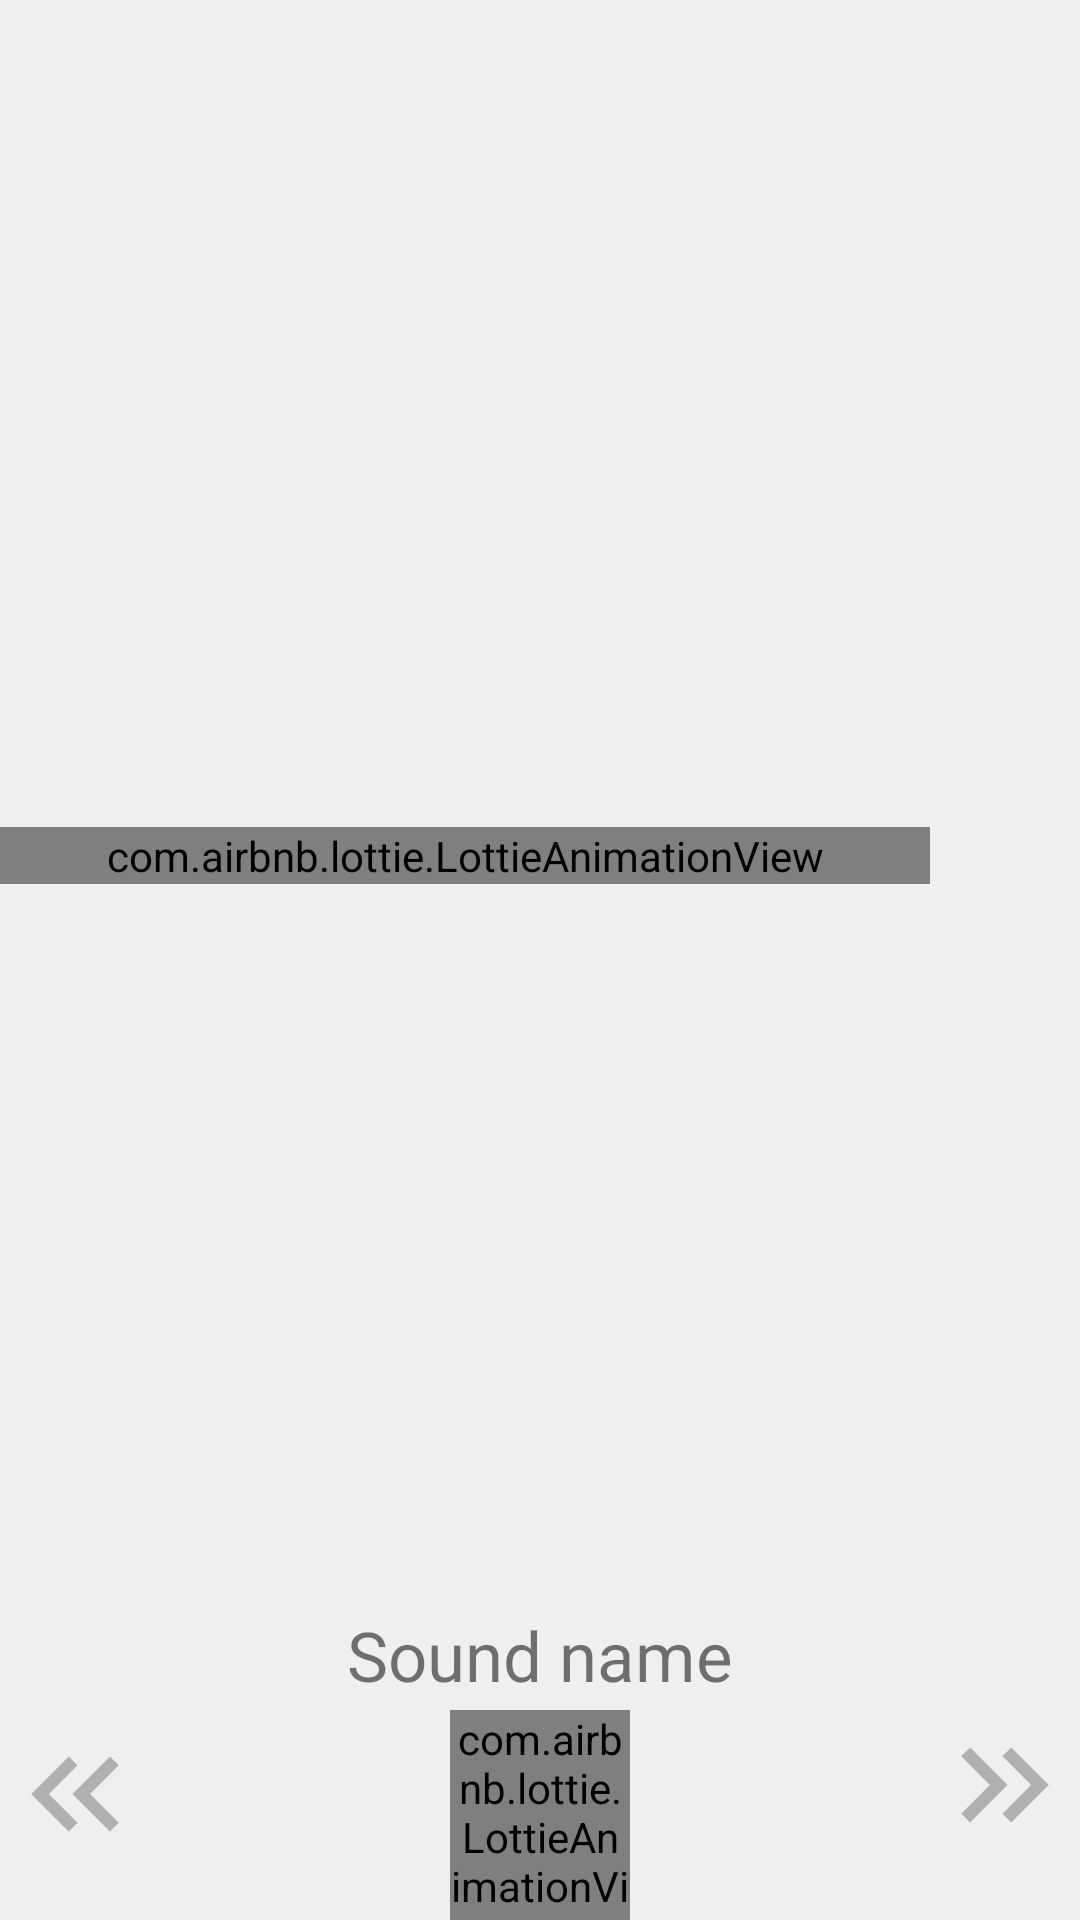

Icons on this 1080px×1920px Android screen, each with its box as (x1=x1, y1=y1, x2=x2, y2=y2):
keyboard double arrow left: (x1=32, y1=1757, x2=119, y2=1831)
keyboard double arrow right: (x1=961, y1=1748, x2=1048, y2=1822)
